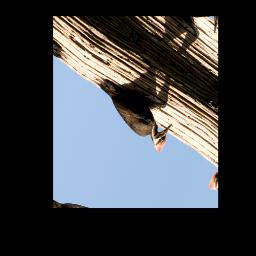Woodpecker: (85, 60, 179, 154)
